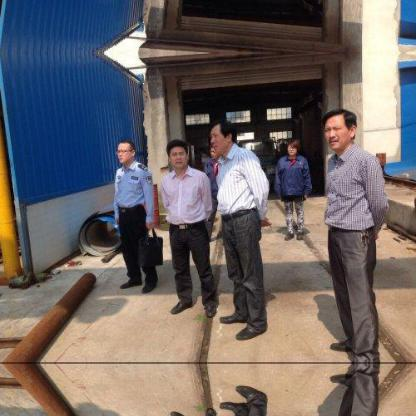No Helmet: (318, 100, 361, 158), (200, 119, 245, 159), (158, 136, 194, 174), (112, 136, 144, 174), (274, 134, 311, 158)
